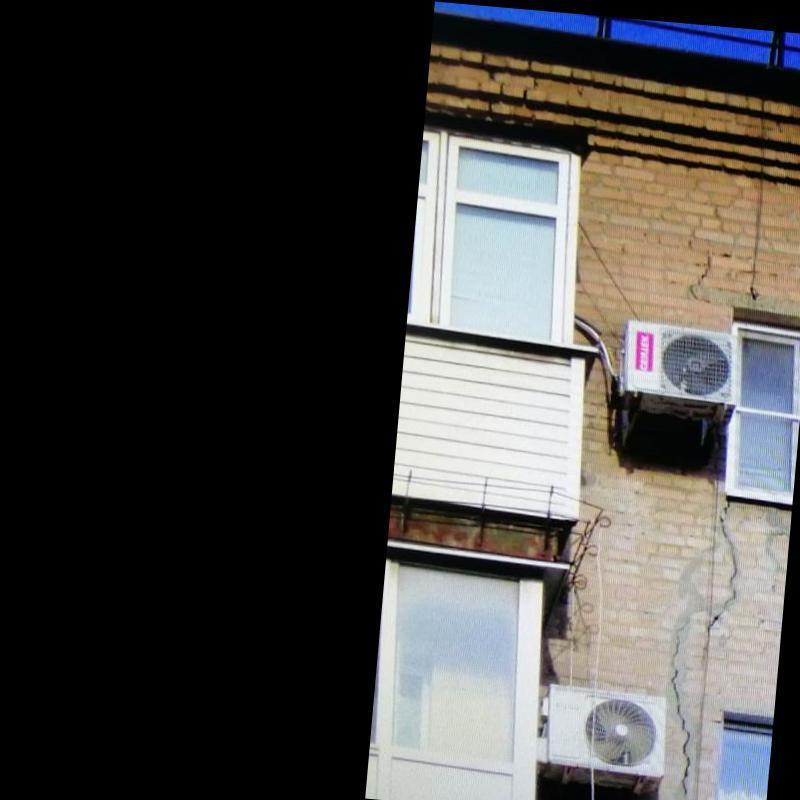pothole: (707, 500, 738, 638), (670, 619, 692, 797), (689, 254, 712, 304)
